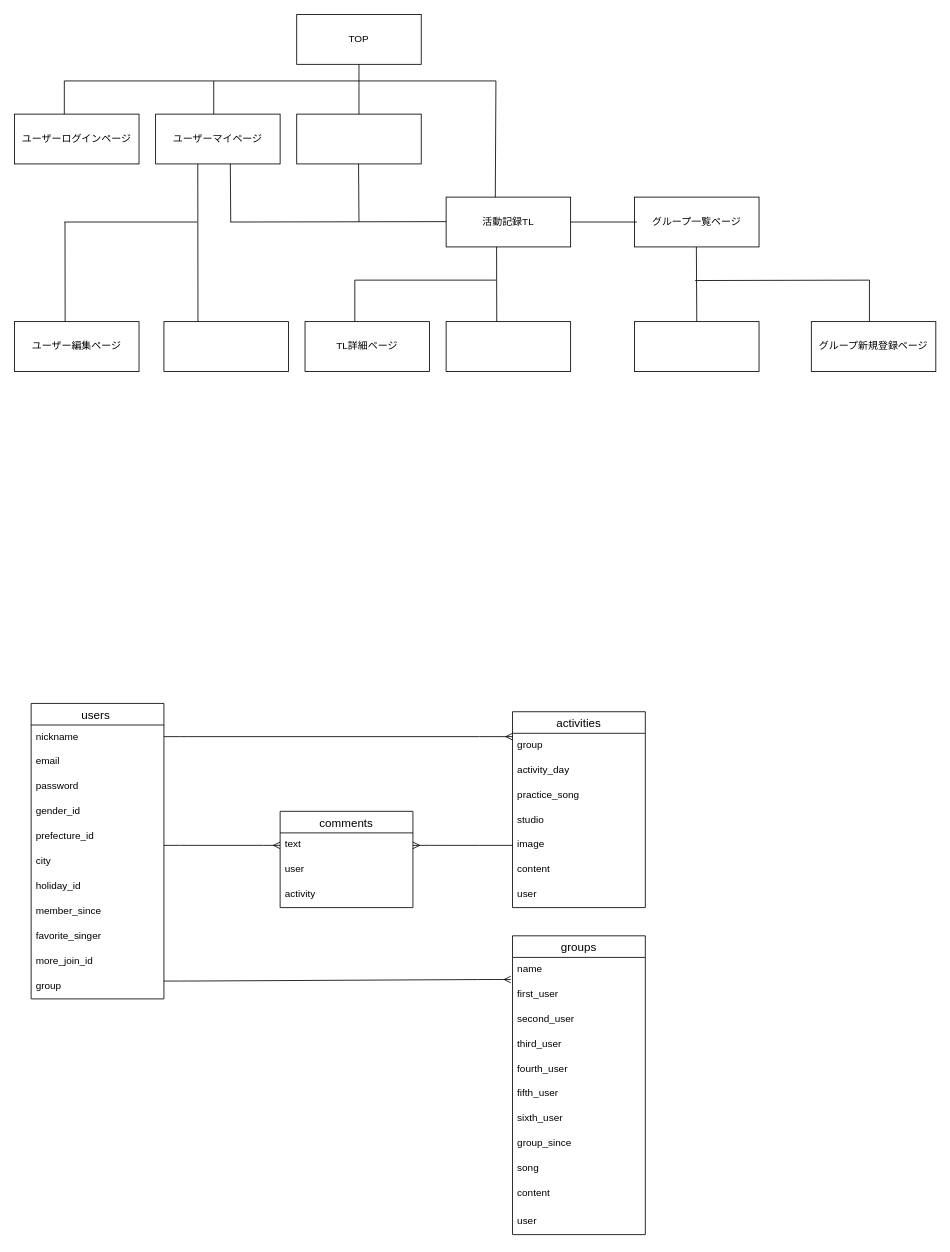
This 950x1252 diagram has some shape labels left out. Each missing label, with the centre of its shape:
TL編集ページ: point (508, 346)
グループ編集ページ: point (696, 346)
ユーザー一覧ページ: point (225, 346)
ユーザー新規登録ページ: point (358, 138)
